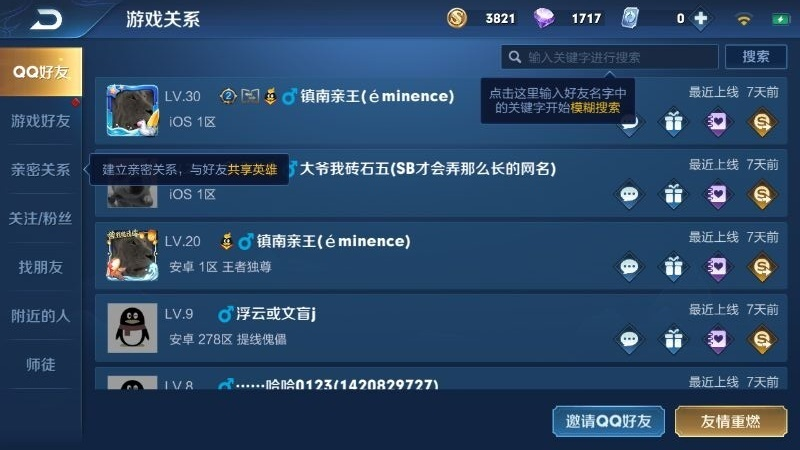return: (23, 3, 72, 35)
tag: (1, 339, 75, 385), (1, 102, 75, 138), (1, 197, 76, 232), (2, 246, 73, 282), (8, 155, 75, 187)
